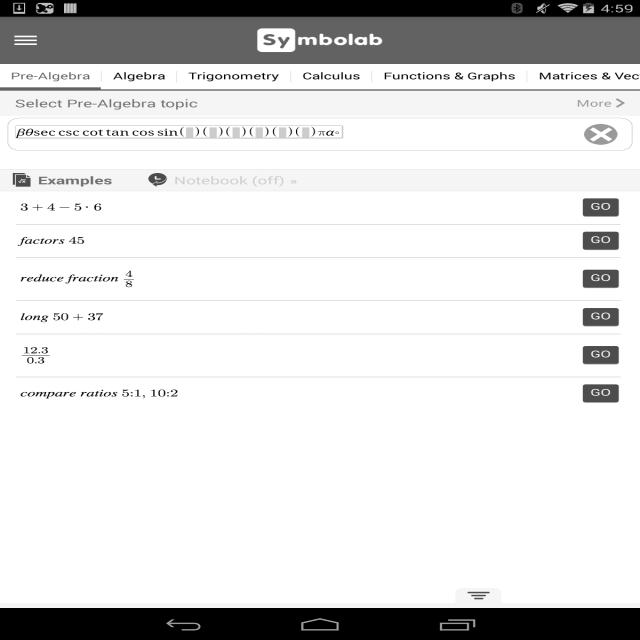Button: (197, 377, 257, 409), (259, 377, 319, 409), (321, 377, 381, 409), (383, 377, 443, 409), (12, 377, 71, 409), (74, 377, 133, 409), (136, 377, 195, 409), (445, 377, 504, 409), (507, 377, 566, 409), (569, 377, 628, 409)
ImageButton: (0, 357, 640, 377), (197, 454, 257, 486), (259, 454, 319, 486), (321, 454, 381, 486), (383, 454, 443, 486), (12, 454, 71, 486), (74, 454, 133, 486), (136, 454, 195, 486), (445, 454, 504, 486), (507, 454, 566, 486), (569, 454, 628, 486), (197, 416, 257, 447), (259, 416, 319, 447), (321, 416, 381, 447), (383, 416, 443, 447), (12, 416, 71, 447), (74, 416, 133, 447), (136, 416, 195, 447), (445, 416, 504, 447), (507, 416, 566, 447), (569, 416, 628, 447)
ImageView: (15, 262, 314, 296), (15, 339, 314, 372), (15, 229, 314, 253), (15, 196, 314, 219), (15, 306, 314, 329), (15, 382, 314, 405), (256, 28, 383, 52), (0, 24, 51, 56), (582, 198, 620, 217), (582, 308, 620, 327), (582, 346, 620, 365), (582, 384, 620, 403), (582, 232, 620, 250), (582, 270, 620, 288), (10, 173, 32, 187), (146, 173, 168, 187), (615, 98, 625, 108), (176, 71, 178, 82), (290, 71, 292, 82), (371, 71, 373, 82), (526, 71, 528, 82), (101, 71, 102, 82)
TextView: (15, 96, 198, 110), (383, 69, 516, 82), (174, 173, 285, 187), (538, 69, 640, 81), (188, 69, 280, 82), (38, 173, 112, 187), (11, 69, 90, 82), (302, 69, 360, 82), (582, 198, 620, 217), (582, 308, 620, 327), (582, 346, 620, 365), (582, 384, 620, 403), (582, 232, 620, 250), (582, 270, 620, 288), (113, 69, 165, 82), (576, 97, 612, 109), (290, 174, 298, 187)
